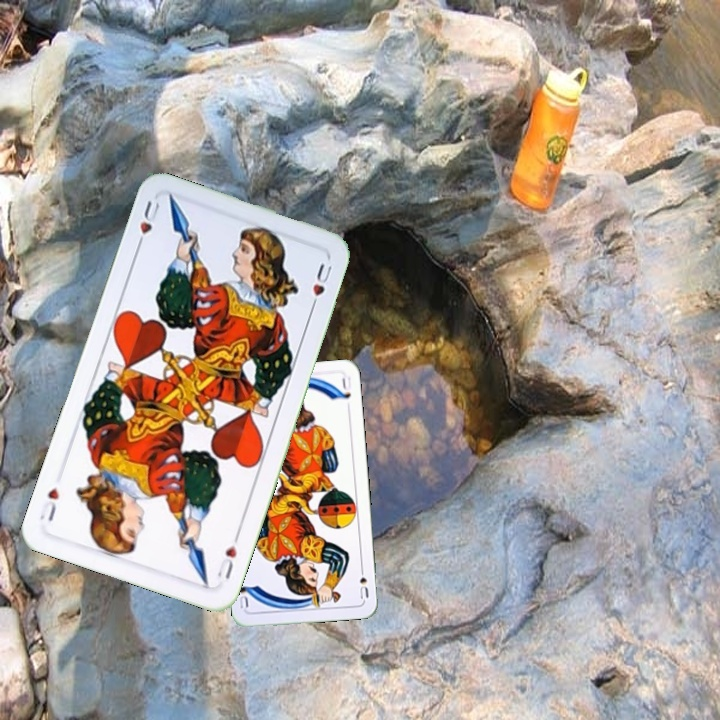HU: (132, 196, 162, 252), (213, 530, 242, 583)
SU: (356, 562, 371, 601)
